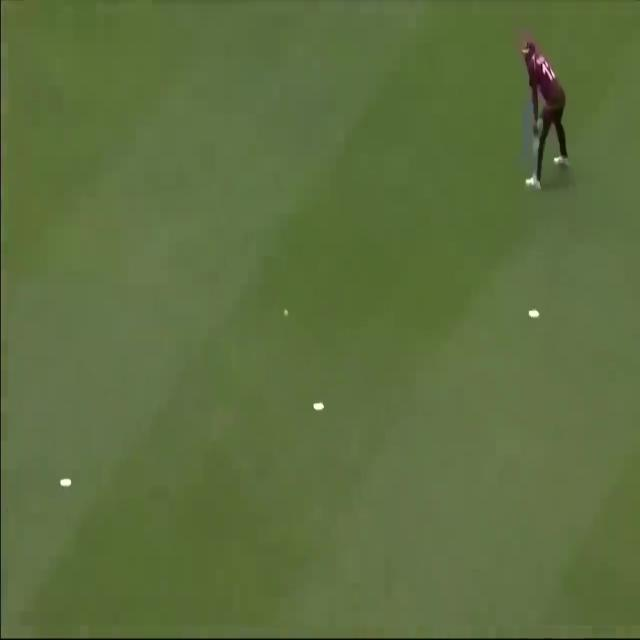Fielder: (518, 42, 569, 180)
